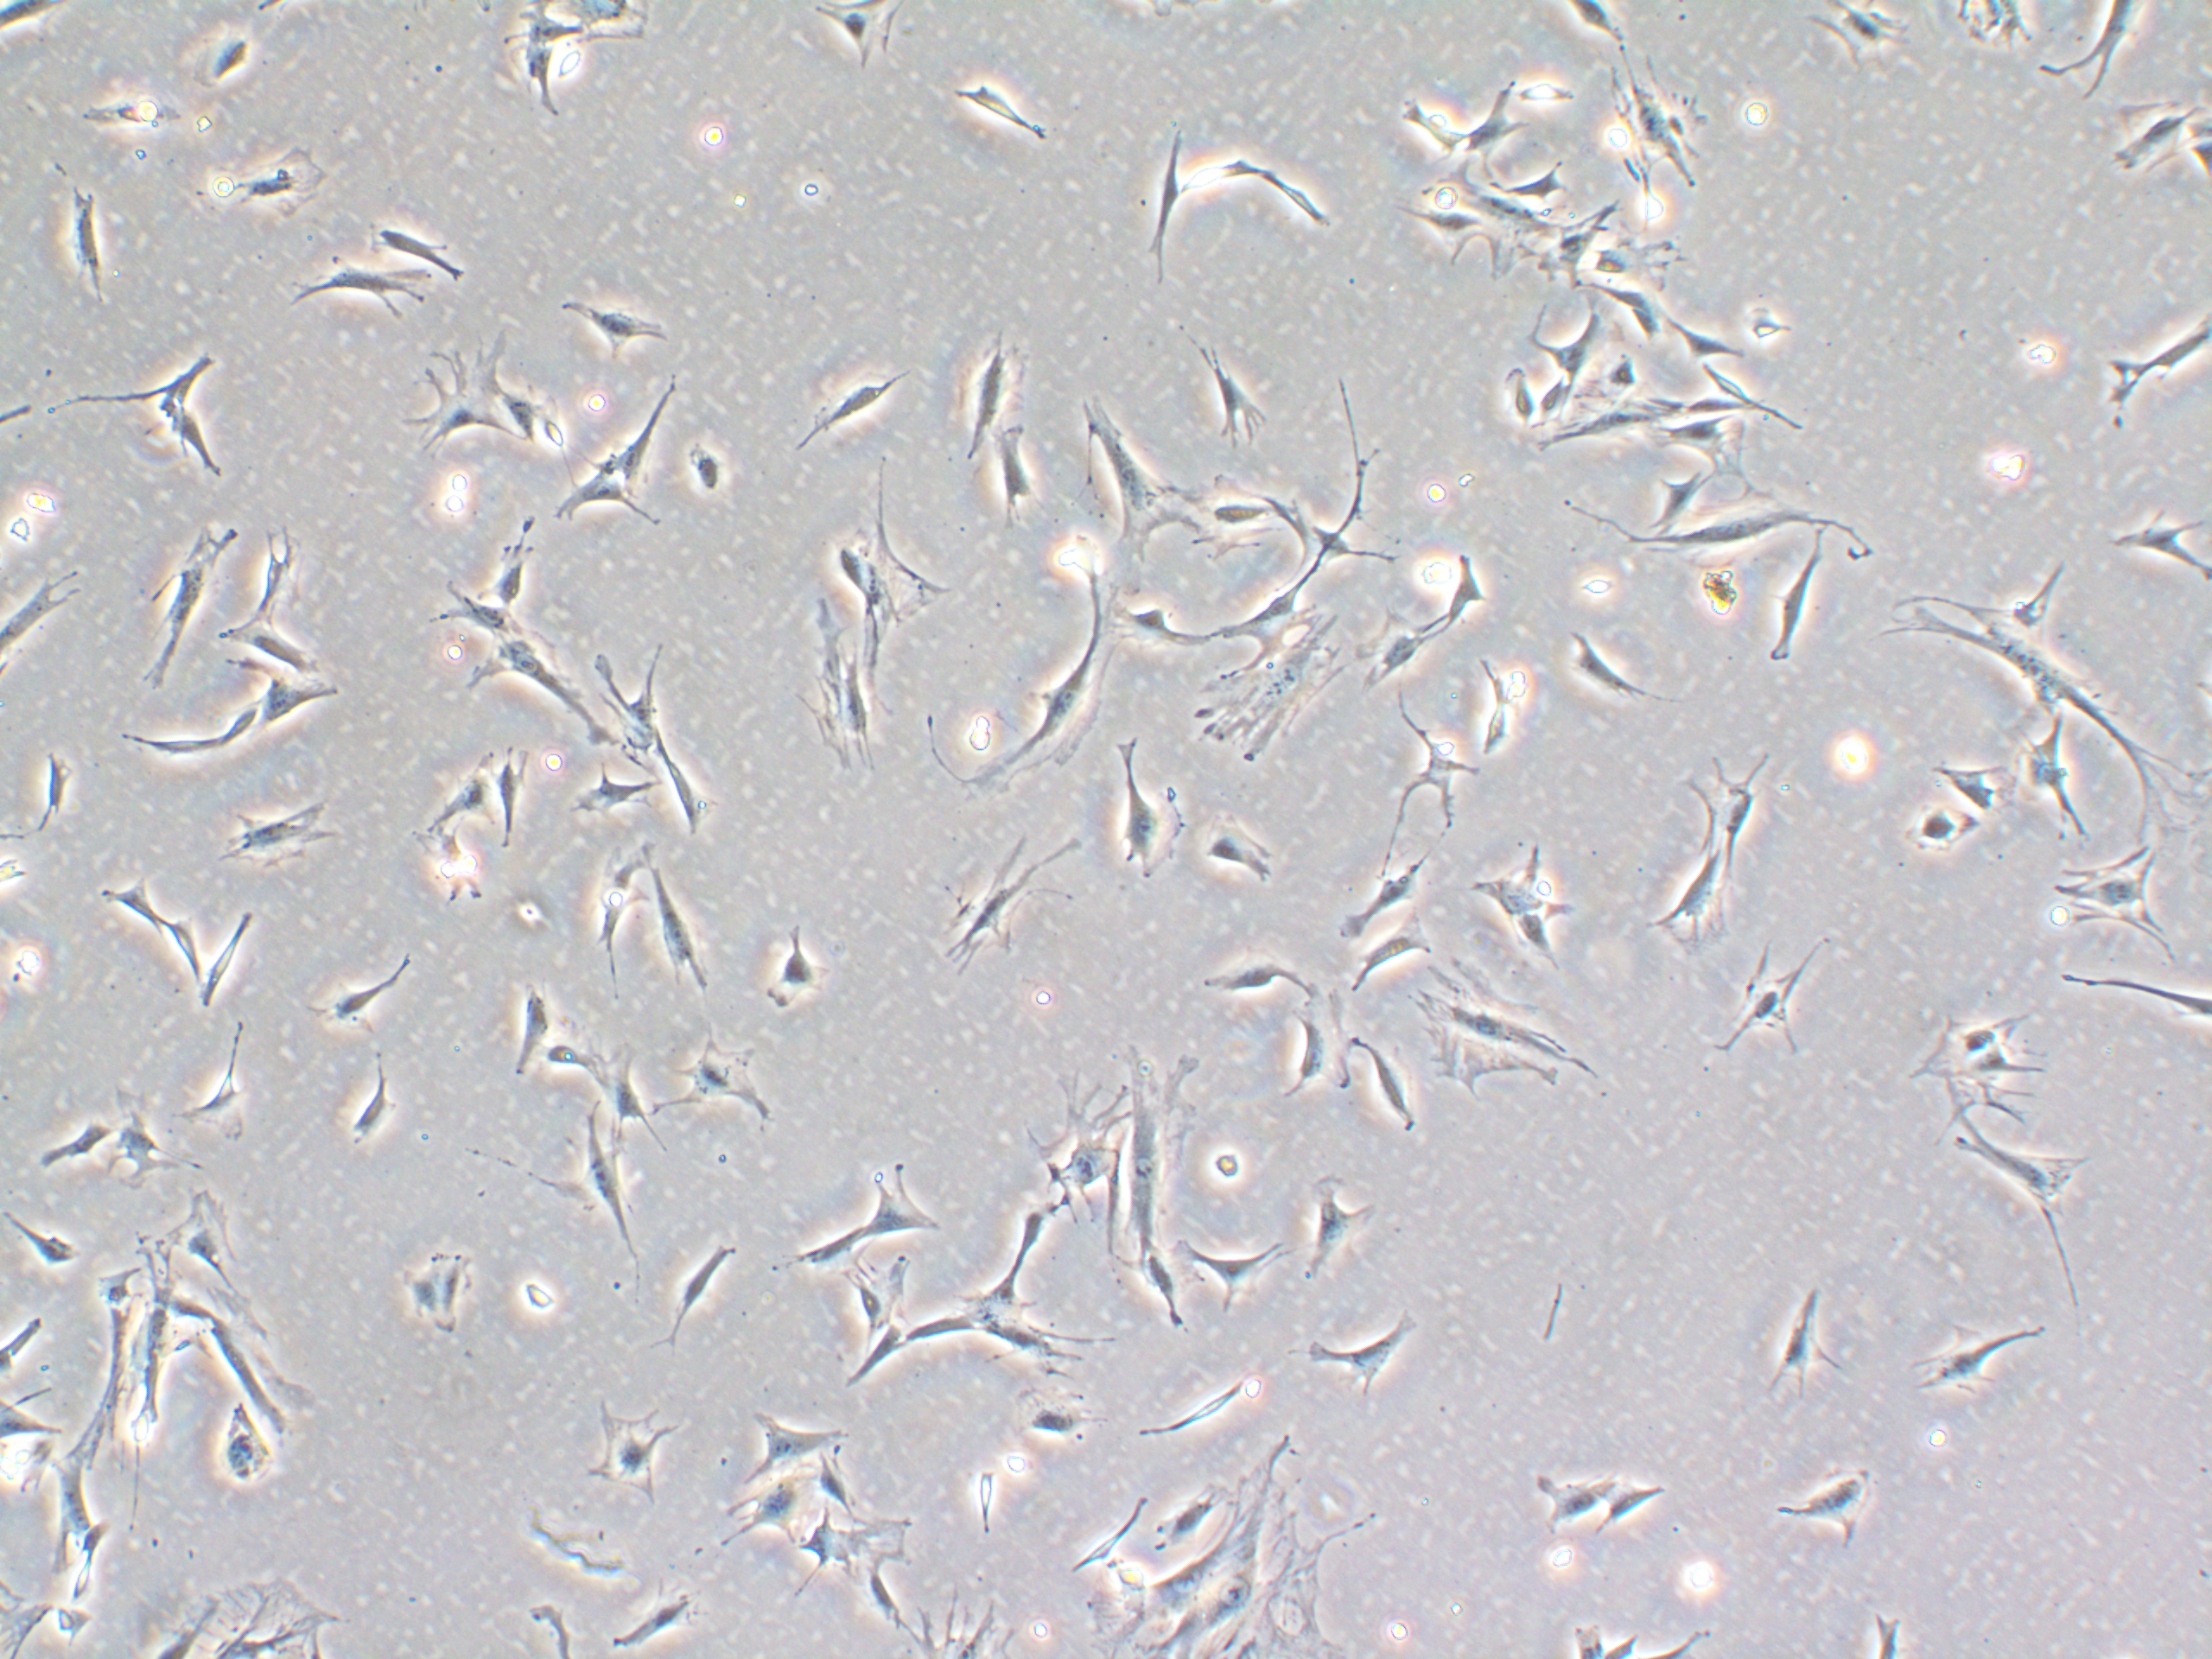Etc: (1127, 1371, 1244, 1450), (1062, 1486, 1157, 1581), (1259, 164, 1352, 253), (1160, 143, 1273, 209), (1507, 52, 1592, 106), (956, 1467, 1008, 1554)
polygonal: (941, 577, 1113, 833), (1886, 586, 2118, 718), (1952, 1126, 2097, 1324), (1059, 383, 1197, 589), (442, 589, 611, 744), (829, 477, 958, 664), (916, 826, 1062, 985), (521, 1115, 648, 1276), (1691, 931, 1829, 1077), (1113, 1033, 1204, 1255), (131, 505, 232, 688), (1284, 1295, 1454, 1398), (1099, 706, 1191, 890), (1616, 491, 1824, 573), (644, 1028, 801, 1136), (2041, 833, 2177, 951), (1897, 1310, 2050, 1412), (1676, 746, 1799, 870), (214, 138, 343, 256), (268, 240, 435, 331), (2097, 486, 2212, 617), (2087, 296, 2212, 415), (1038, 1061, 1123, 1232), (1895, 1004, 2062, 1089), (51, 173, 148, 317), (944, 317, 1026, 479), (1167, 1230, 1291, 1331), (202, 1323, 301, 1448), (103, 1070, 206, 1190), (1292, 1166, 1390, 1290), (639, 861, 723, 1004), (796, 352, 911, 455), (580, 835, 655, 992), (533, 289, 676, 371), (381, 1239, 477, 1359), (664, 1232, 758, 1354), (1332, 838, 1437, 948), (932, 66, 1062, 153), (293, 948, 421, 1035), (1651, 845, 1747, 962), (216, 791, 341, 878), (728, 1412, 862, 1492), (596, 364, 678, 495), (357, 207, 481, 293), (322, 1042, 420, 1150), (1346, 608, 1454, 706), (1195, 566, 1315, 653), (1649, 422, 1796, 493), (152, 1185, 247, 1293), (1343, 908, 1453, 1002), (1362, 199, 1482, 284), (1771, 1455, 1881, 1547), (1353, 1037, 1444, 1148), (599, 1570, 712, 1659), (1545, 383, 1681, 457), (864, 1143, 960, 1246), (1557, 622, 1665, 713), (1181, 934, 1313, 1007), (1176, 472, 1292, 554), (1761, 530, 1824, 680), (1197, 314, 1266, 448), (658, 737, 737, 856), (489, 965, 571, 1079), (768, 922, 850, 1035), (535, 465, 676, 530), (831, 1246, 927, 1340), (982, 1187, 1054, 1312), (1134, 117, 1186, 288), (1768, 1283, 1836, 1413), (1447, 73, 1534, 174), (199, 906, 265, 1039), (406, 753, 512, 835), (1588, 1459, 1679, 1553), (1291, 988, 1357, 1112), (98, 699, 216, 767), (712, 1469, 808, 1553), (127, 1305, 176, 1467), (479, 737, 540, 863), (1132, 1239, 1207, 1340), (1484, 141, 1587, 213), (214, 608, 322, 676), (1524, 1459, 1613, 1540), (1205, 809, 1287, 896), (44, 1446, 99, 1574), (33, 1091, 115, 1176), (991, 420, 1054, 530), (1115, 587, 1207, 659), (597, 1044, 657, 1150), (249, 521, 312, 620), (989, 1316, 1076, 1385), (1533, 305, 1608, 383), (254, 671, 354, 728), (1440, 542, 1498, 640), (833, 1317, 913, 1387), (1592, 281, 1676, 347), (1670, 314, 1749, 380), (99, 864, 164, 943), (1489, 359, 1538, 458), (482, 533, 543, 612), (1676, 390, 1811, 425), (789, 1213, 867, 1272), (1649, 464, 1709, 540), (803, 1453, 871, 1520)
small-round: (1897, 798, 1980, 871), (678, 434, 747, 519), (535, 397, 589, 462), (516, 1263, 568, 1323)
spread: (1090, 1417, 1406, 1659), (1416, 950, 1604, 1107), (1191, 622, 1364, 769), (798, 633, 887, 784)
